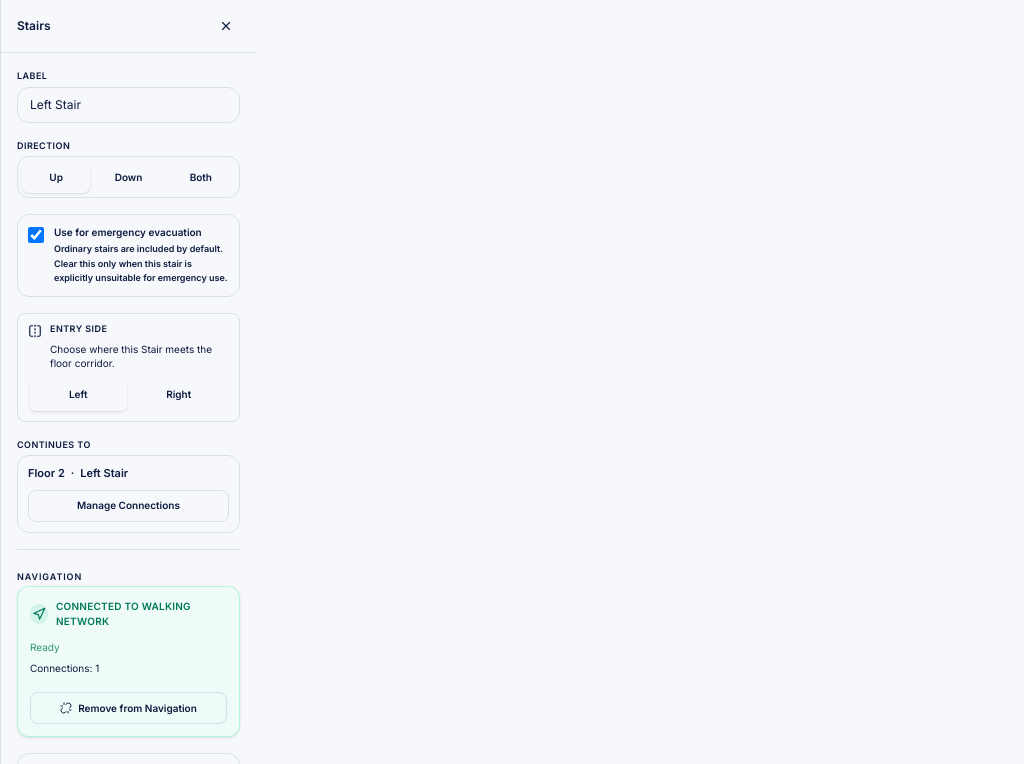
Room authoring properties › filters Stair continuation candidates by the selected direction
The image size is (1024, 764).
Click the button with test id "circulation-group-trigger-stairs".
click(128, 506)  # box [28,490,229,522]
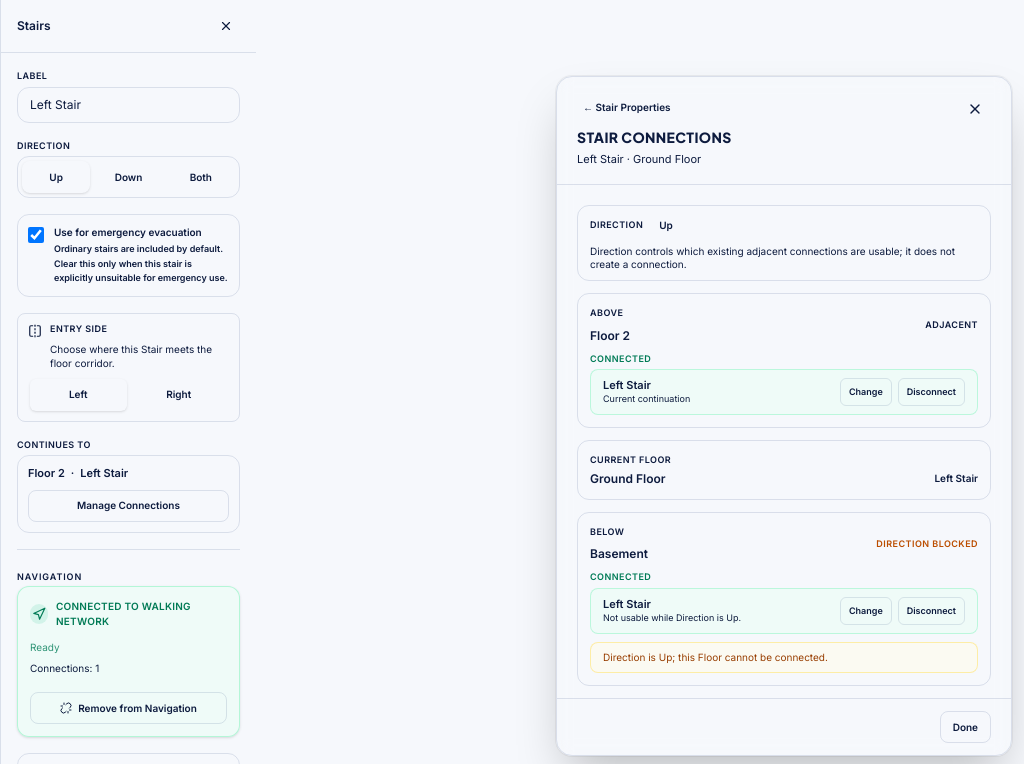
expect the dialog with test id "circulation-group-picker" shows "Floor 2": met, box [590,328,630,342]
expect the dialog with test id "circulation-group-picker" shows "Basement": met, box [590,546,648,561]
expect the element with test id "stair-picker-direction-blocked" shows "Direction is Up": met, box [590,642,978,673]
